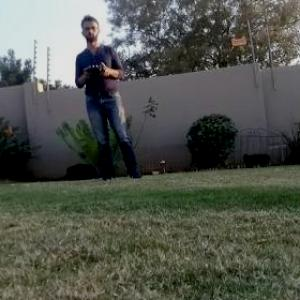follow: (73, 5, 149, 184)
